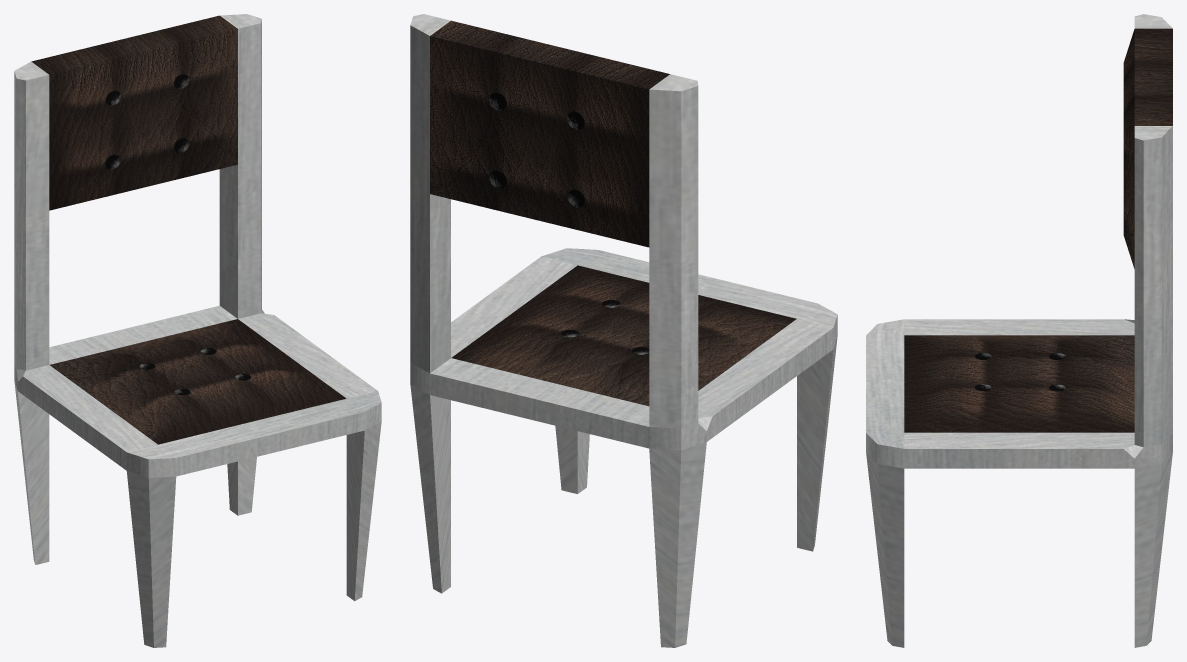
The model's file is leatherChair.fbx.
3 renders of one model, left to right at view 1: azimuth 30°, elevation 25°; view 2: azimuth 150°, elevation 25°; view 3: azimuth 270°, elevation 25°, orthographic. The views are drawn at different scales.
Parts seen in each view (by area): view 1: leatherChair; view 2: leatherChair; view 3: leatherChair.
Boxes of the visible parts, <box> form: leatherChair: <box>14,14,381,647</box>; leatherChair: <box>410,14,837,647</box>; leatherChair: <box>866,14,1172,647</box>.
Bounding box in the file's own units: 63.98 × 118 × 63.98.
1 material, 1 textured.
